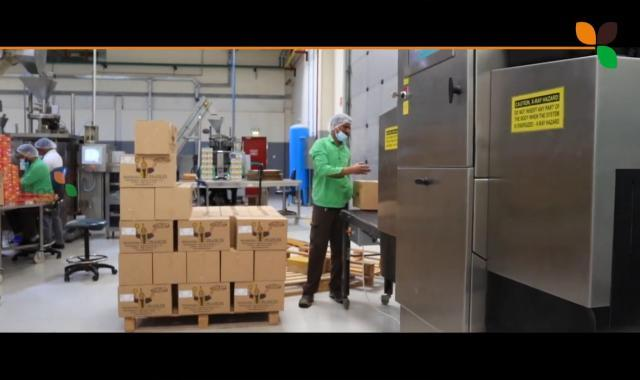Hairnet: (326, 111, 354, 129), (17, 144, 38, 157), (36, 139, 56, 148)
Mask: (333, 132, 351, 141), (20, 160, 30, 167)
No_Apron: (313, 139, 346, 207)
No_Glove: (348, 161, 371, 177)
